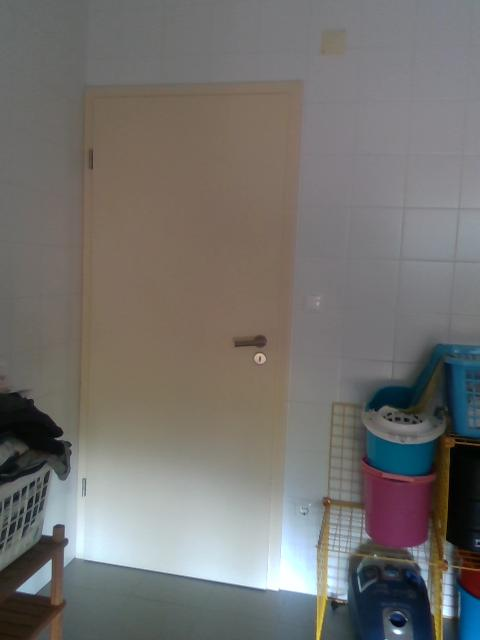door: (91, 93, 292, 590)
